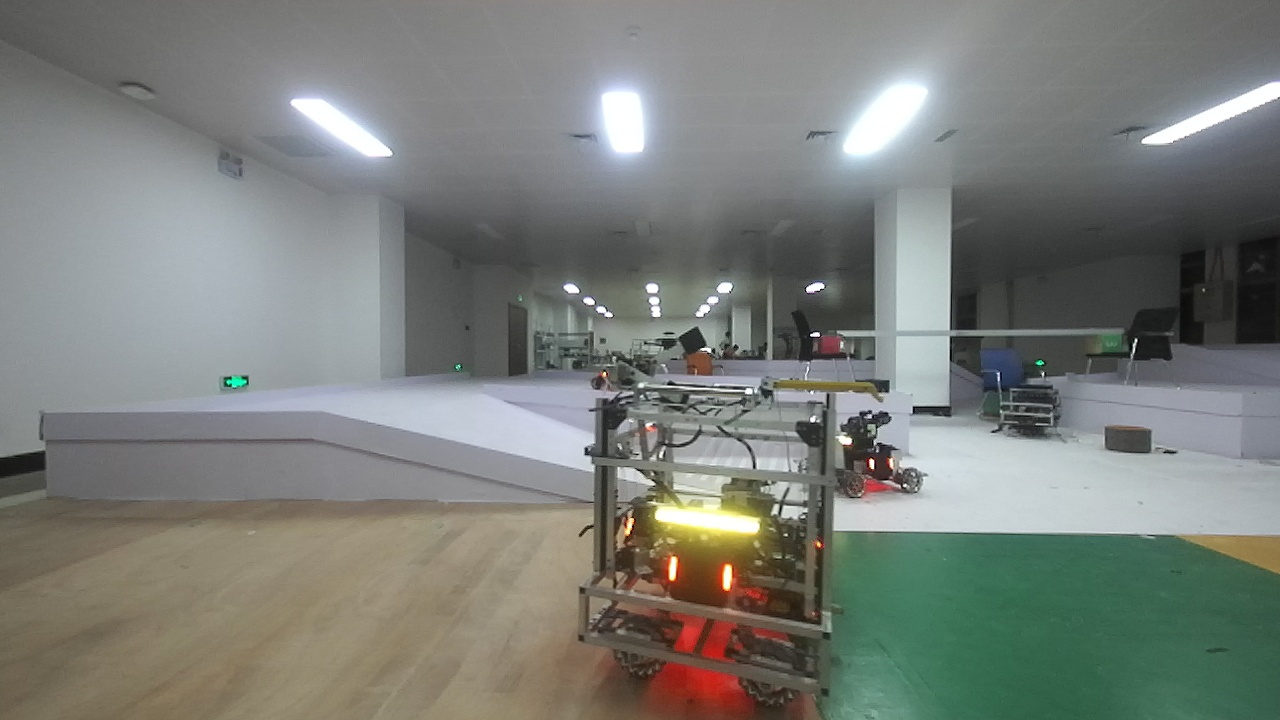car: (577, 385, 843, 714), (809, 406, 936, 509), (583, 360, 648, 396)
